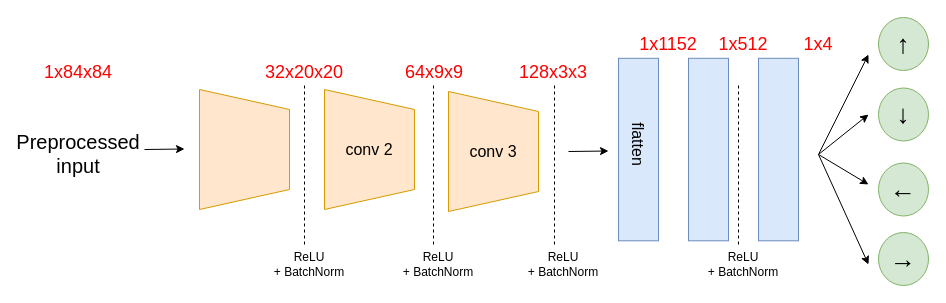
The diagram is 946 pixels wide and 303 high, and some of its shapes have lost their labels. Here are the shapes that lost their labels. From the top down, the centre of each, then its label:
At point 244,149: "conv 1".
At point 708,149: "linear".
At point 778,149: "out".
